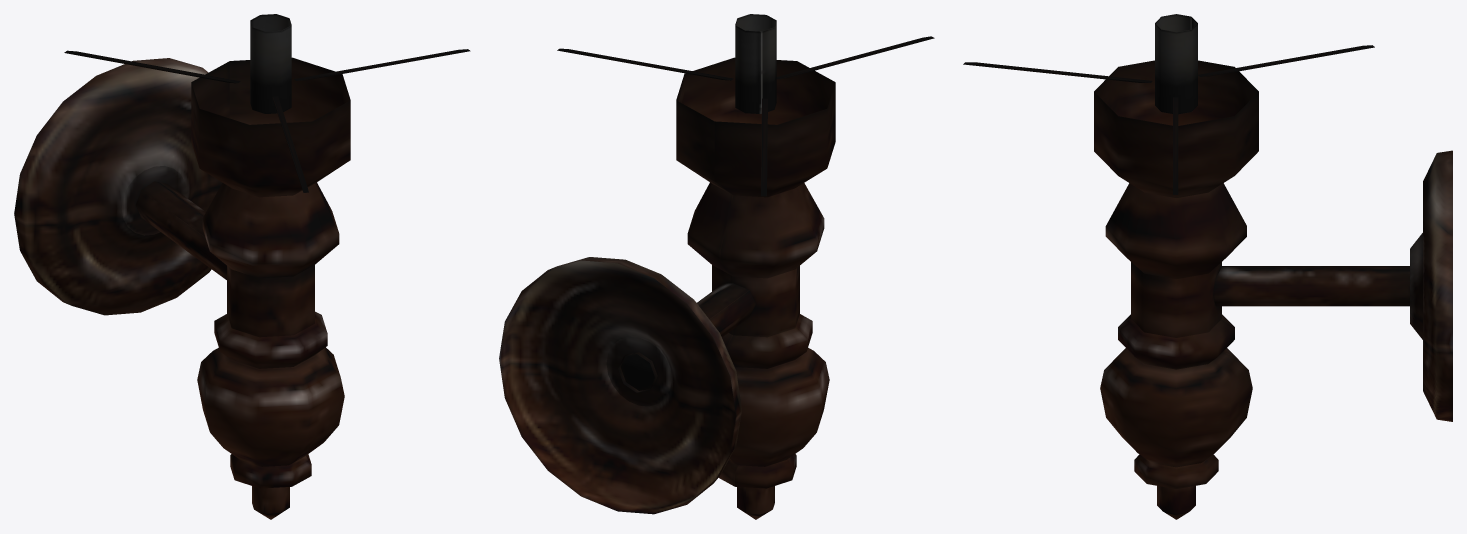
Rendered from lampe01.fbx.
3 renders of one model, left to right at view 1: azimuth 30°, elevation 25°; view 2: azimuth 150°, elevation 25°; view 3: azimuth 270°, elevation 25°, orthographic.
Parts seen in each view (by area): view 1: lampemurale; view 2: lampemurale; view 3: lampemurale.
Boxes of the visible parts, left/top/right/bottom form: lampemurale: left=14, top=14, right=470, bottom=519; lampemurale: left=499, top=14, right=934, bottom=519; lampemurale: left=963, top=14, right=1452, bottom=519.
Size of the model in its own units: 35.67 by 53.53 by 47.83.
